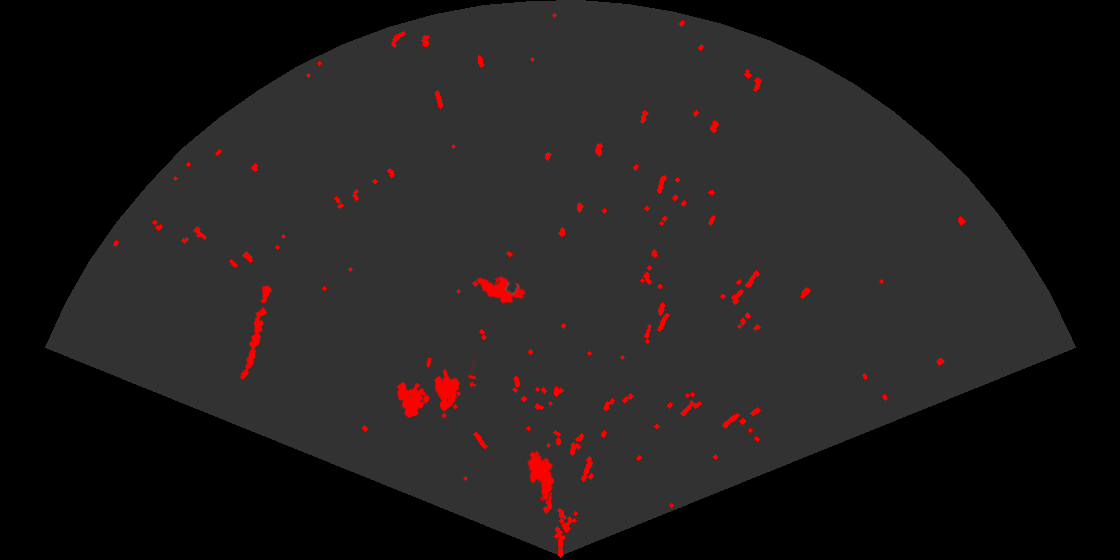AUV: (475, 274, 527, 305), (526, 449, 556, 502)
cage: (395, 358, 476, 420)
chain: (239, 283, 274, 382)
